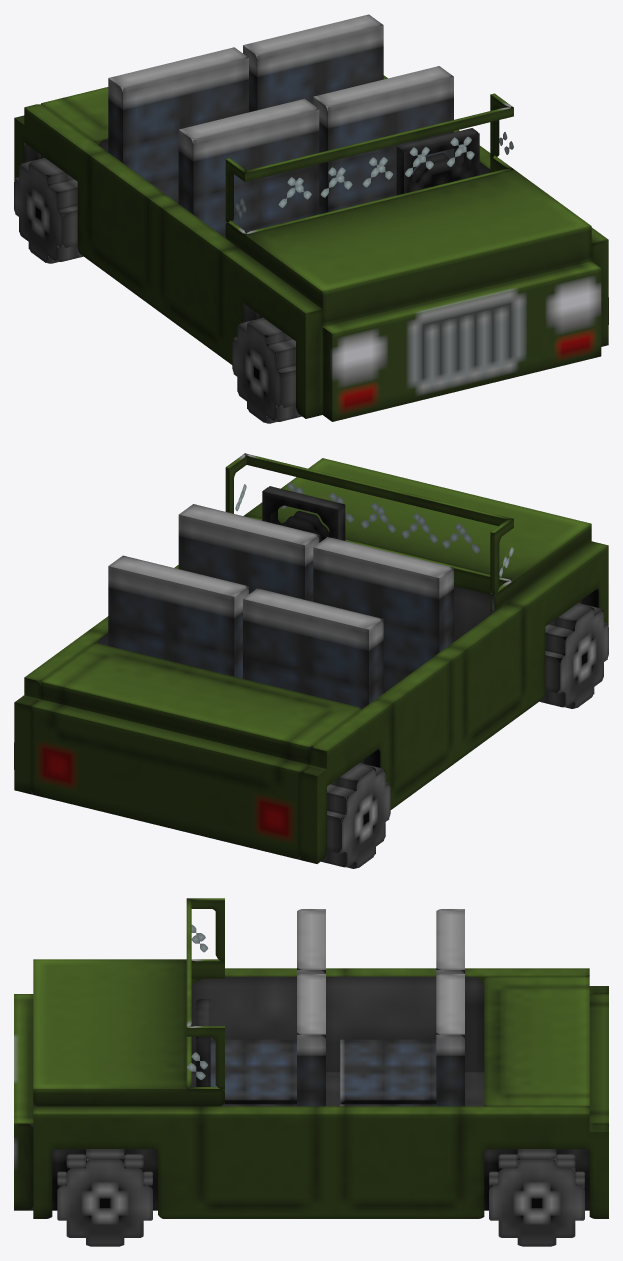
Rendered from car_001.obj.
3 renders of one model, top to bottom at view 1: azimuth 30°, elevation 25°; view 2: azimuth 150°, elevation 25°; view 3: azimuth 270°, elevation 25°, orthographic.
Visible parts, largest first — view 1: car001; view 2: car001; view 3: car001.
Part boxes in pixels (x1,y1,x2,y2): car001: (14, 14, 608, 423); car001: (14, 453, 608, 868); car001: (14, 898, 608, 1246).
Bounding box in the file's own units: 19.5 × 11.75 × 31.
